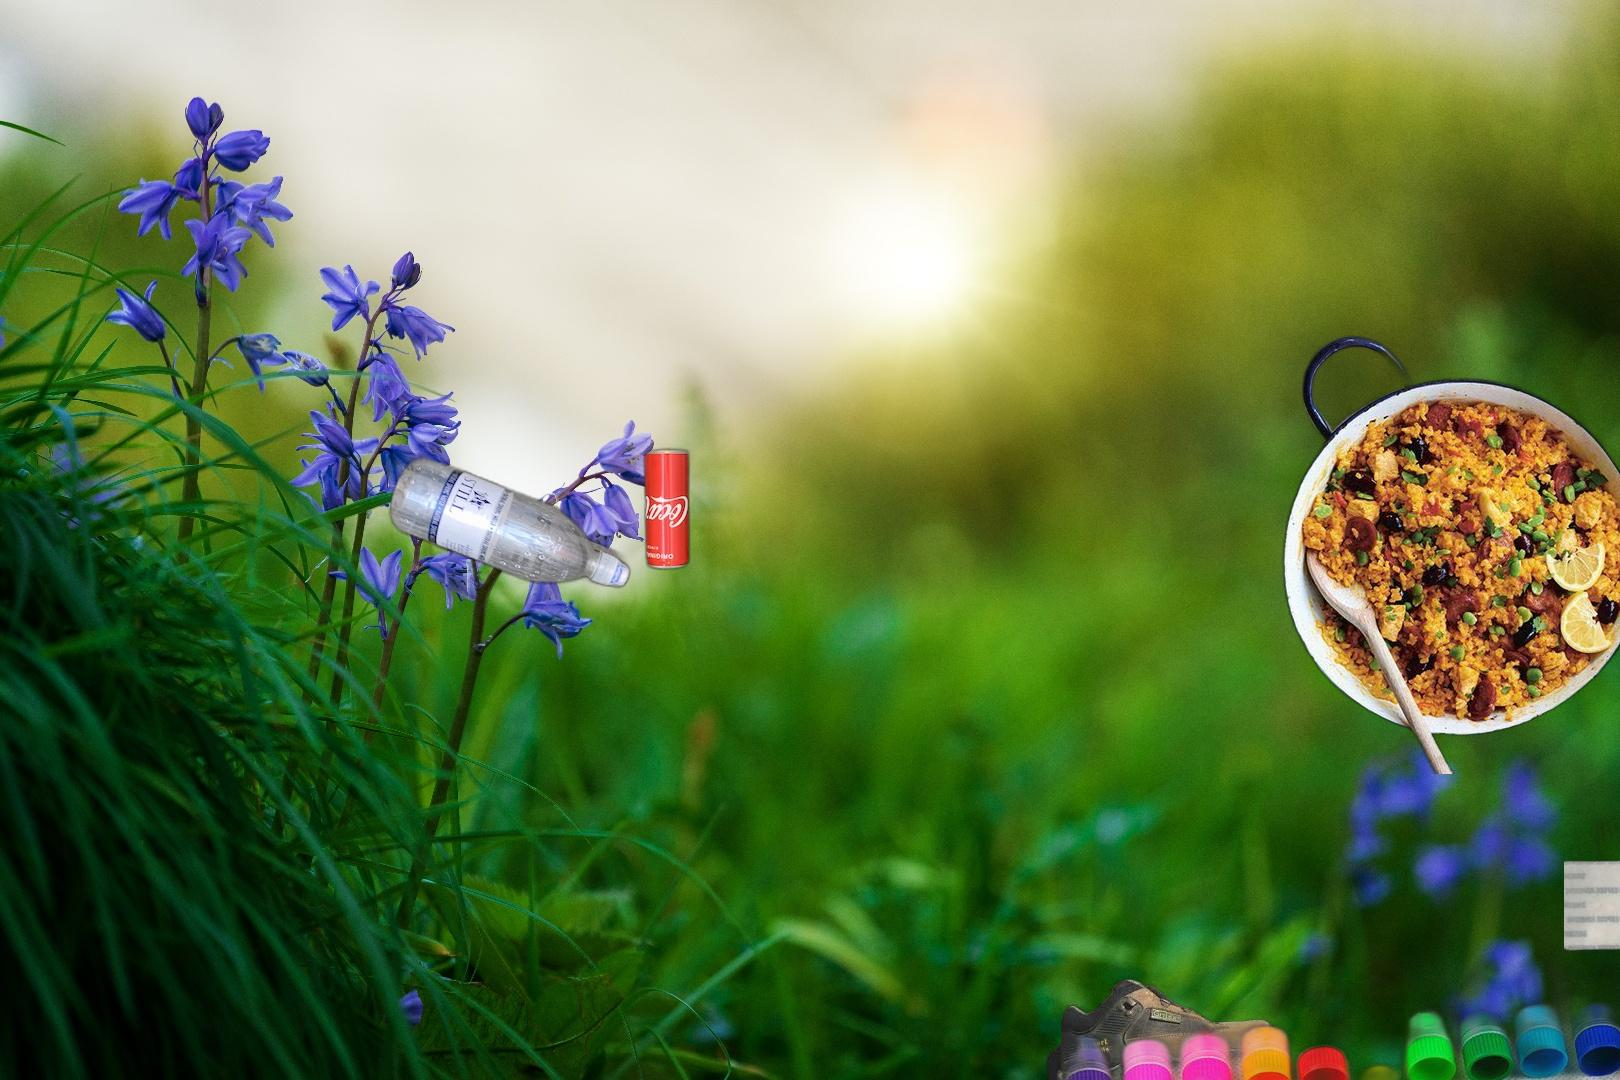biological: (1278, 331, 1620, 774)
metal-cans: (639, 444, 694, 575)
paper: (1565, 850, 1620, 953)
penholder: (1035, 658, 1620, 1080)
plastic-bottles: (284, 451, 777, 921)
shoes: (1043, 974, 1282, 1080)
